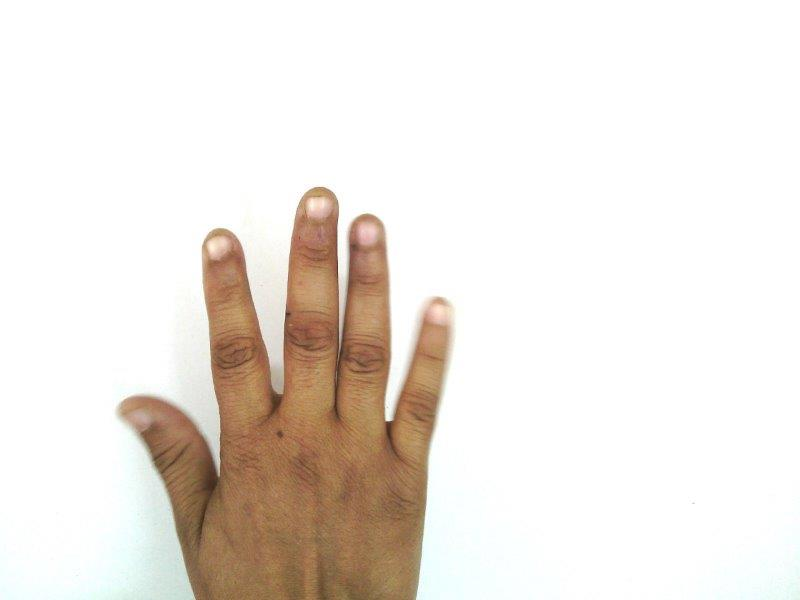hand: (118, 189, 455, 599)
